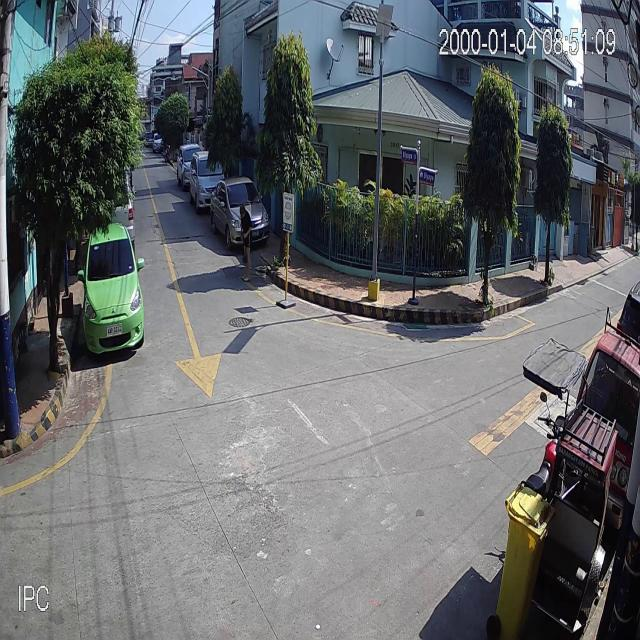standing: (238, 202, 253, 282)
